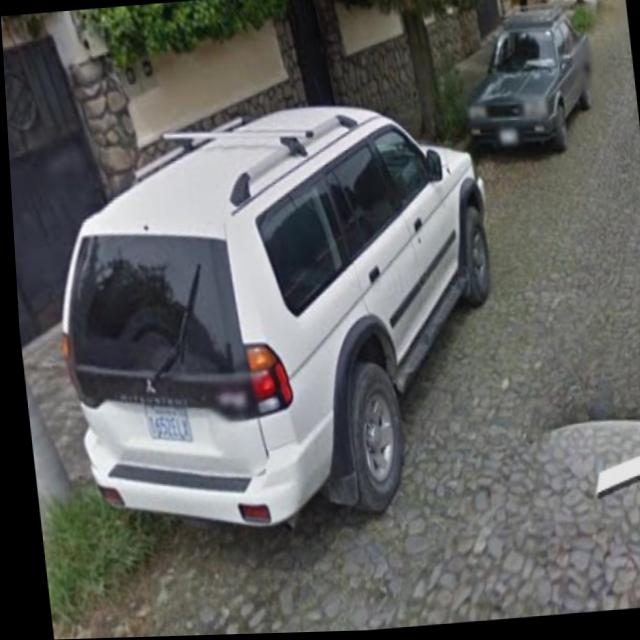vehicle: (39, 125, 523, 567), (452, 6, 599, 162)
